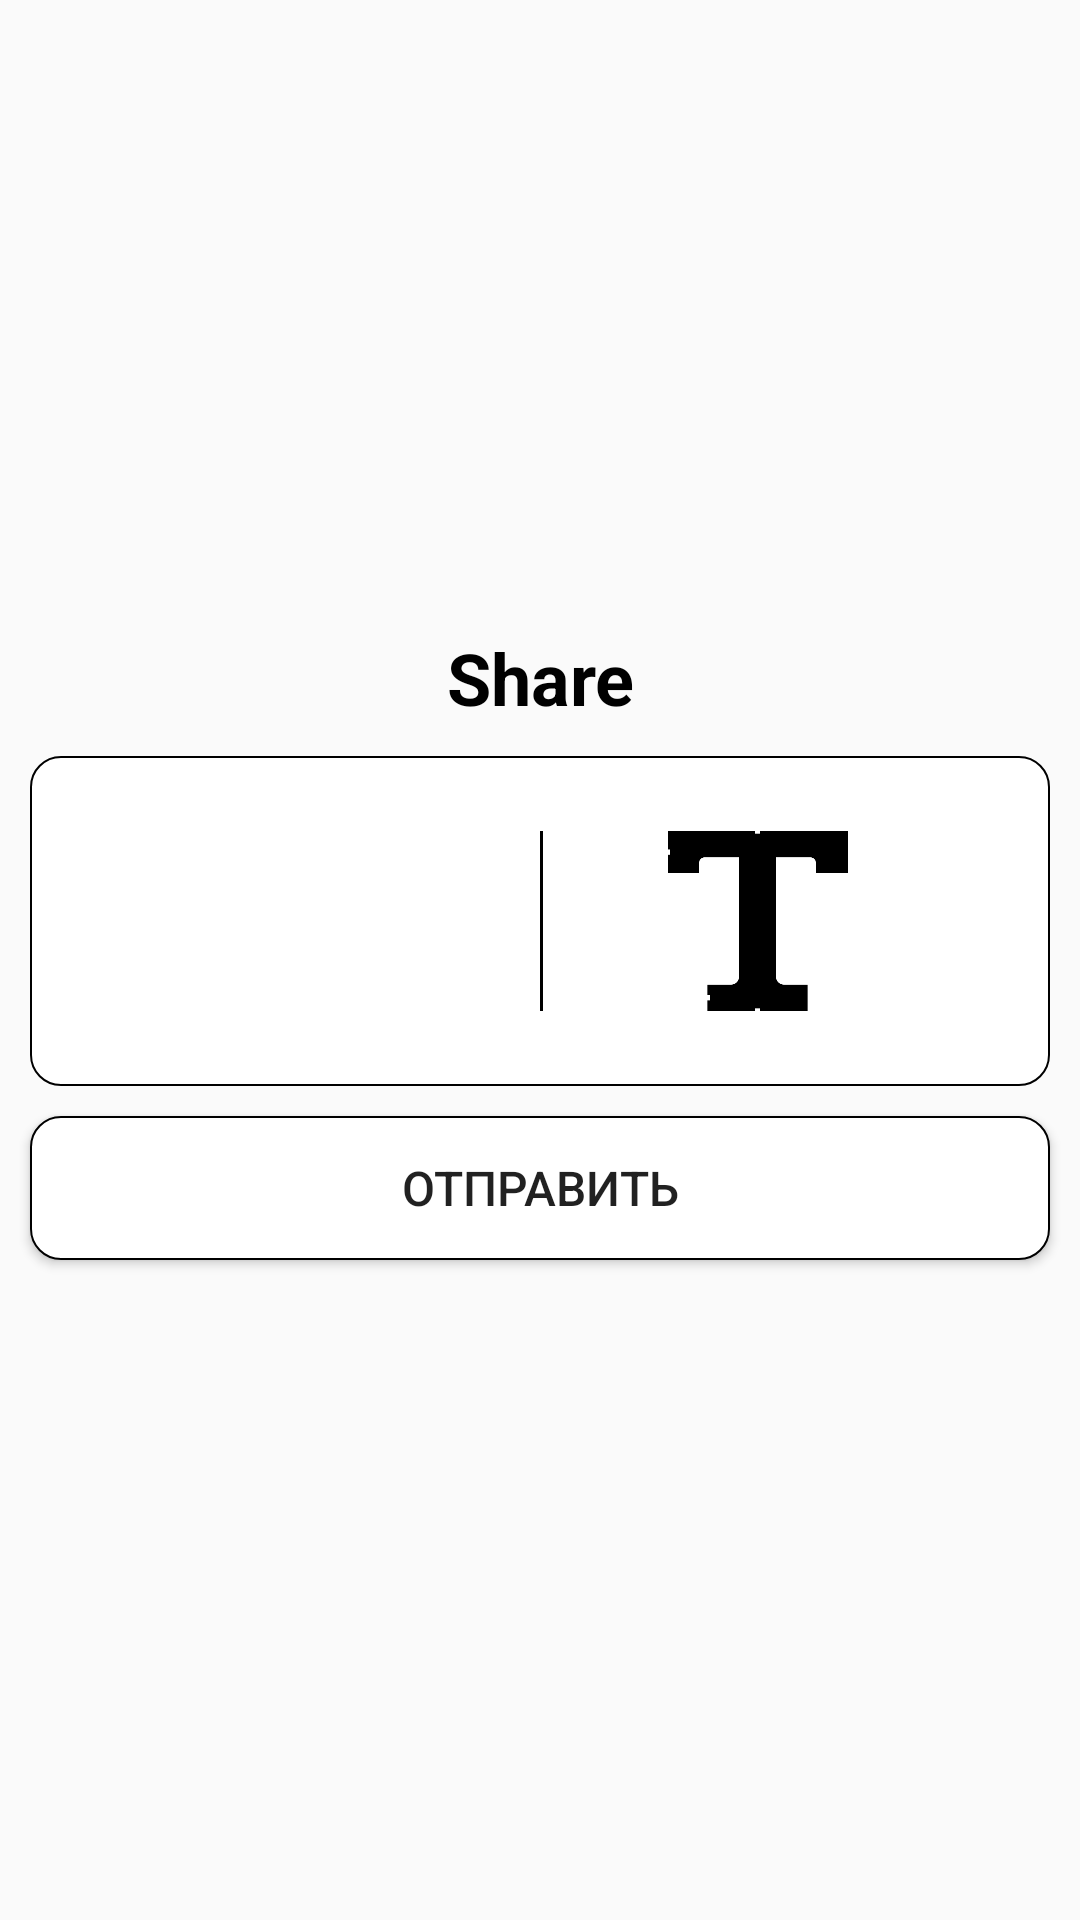

Icons on this 1080 × 1920 Android screen, each with the point to tap as (x=x, y=y):
text: (x=694, y=921)
